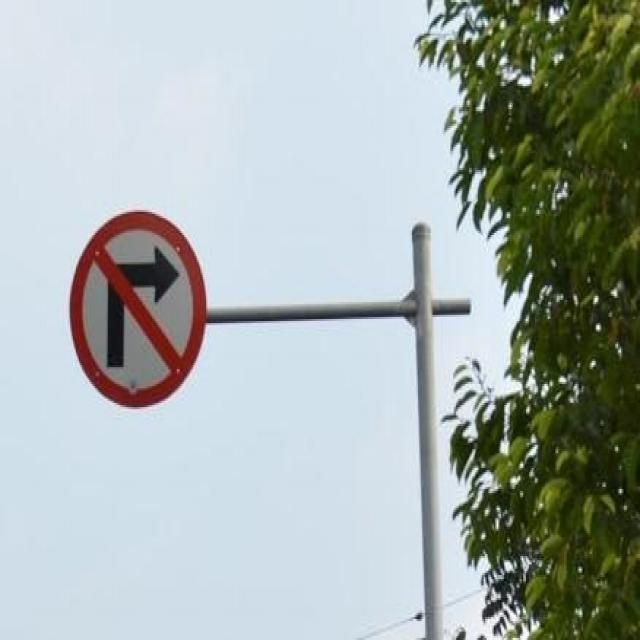traffic sign: (69, 212, 206, 407)
